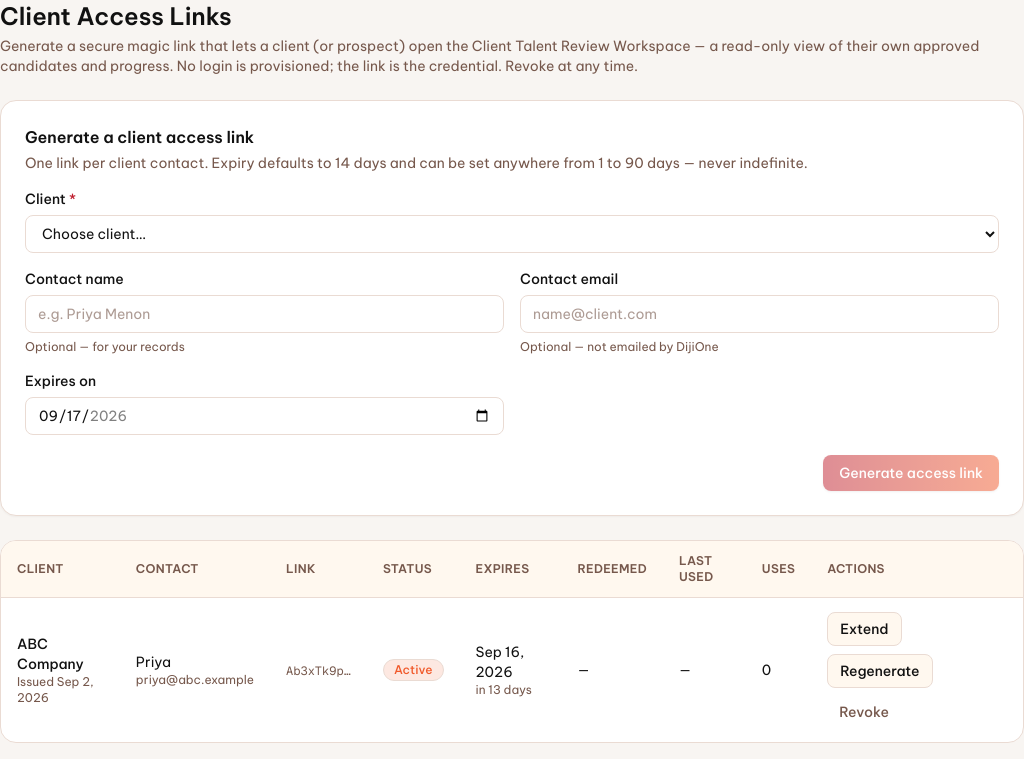
Test: AccessLinksView › shows the one-time access URL after generating, then it can be dismissed
Select "ABC Company" in the dropdown labelled "Client *" at (512, 234), box [25, 215, 999, 253]
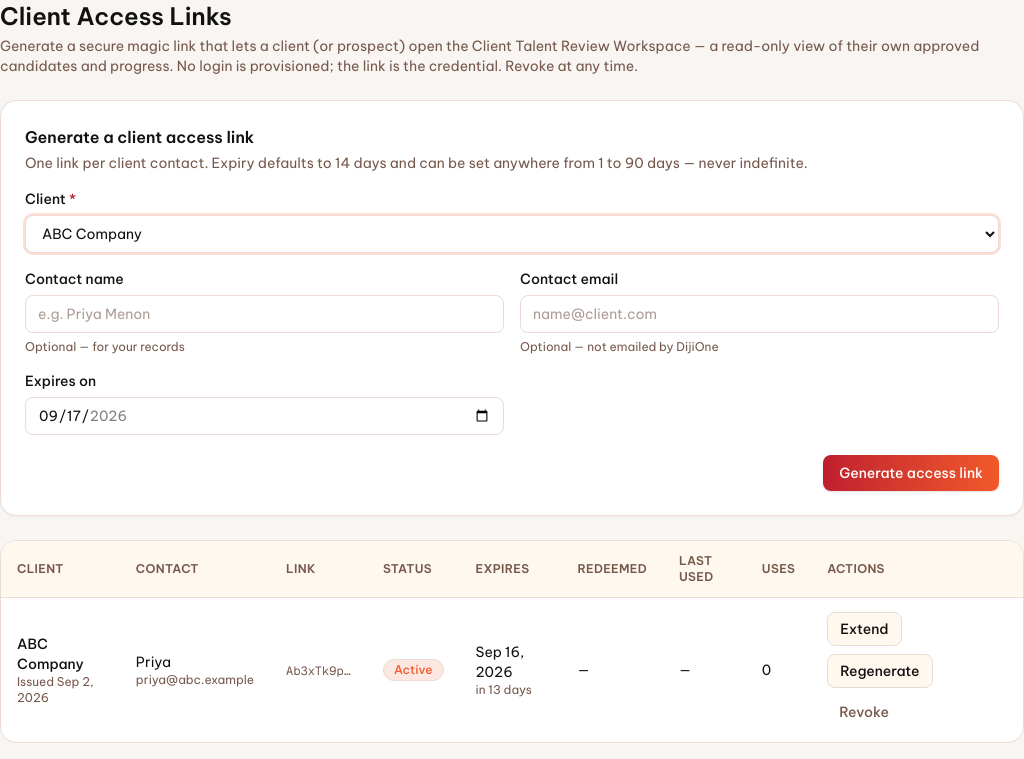
Click the button "Generate access link" at (911, 473), box [823, 455, 999, 491]
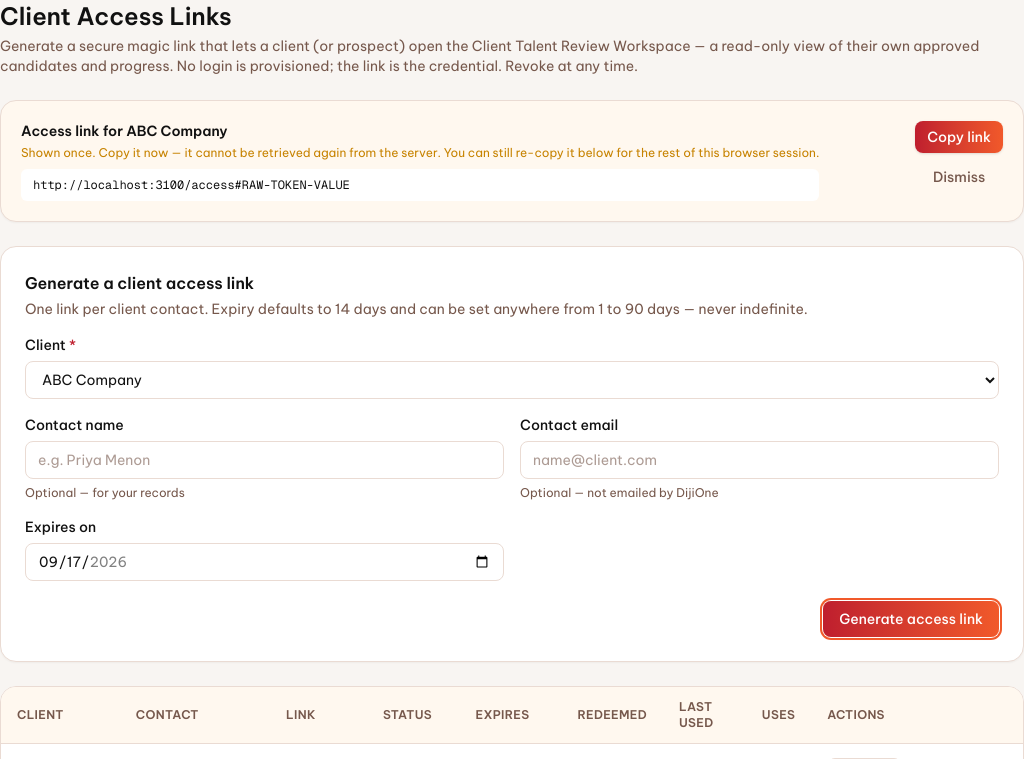
Expected: the text "http://localhost:3100/access#RAW-TOKEN-VALUE" is shown, [21, 169, 819, 201]
Expected: the text "Shown once" is shown, [21, 145, 819, 160]
Click the button "Dismiss" at (959, 177), box [915, 161, 1003, 193]
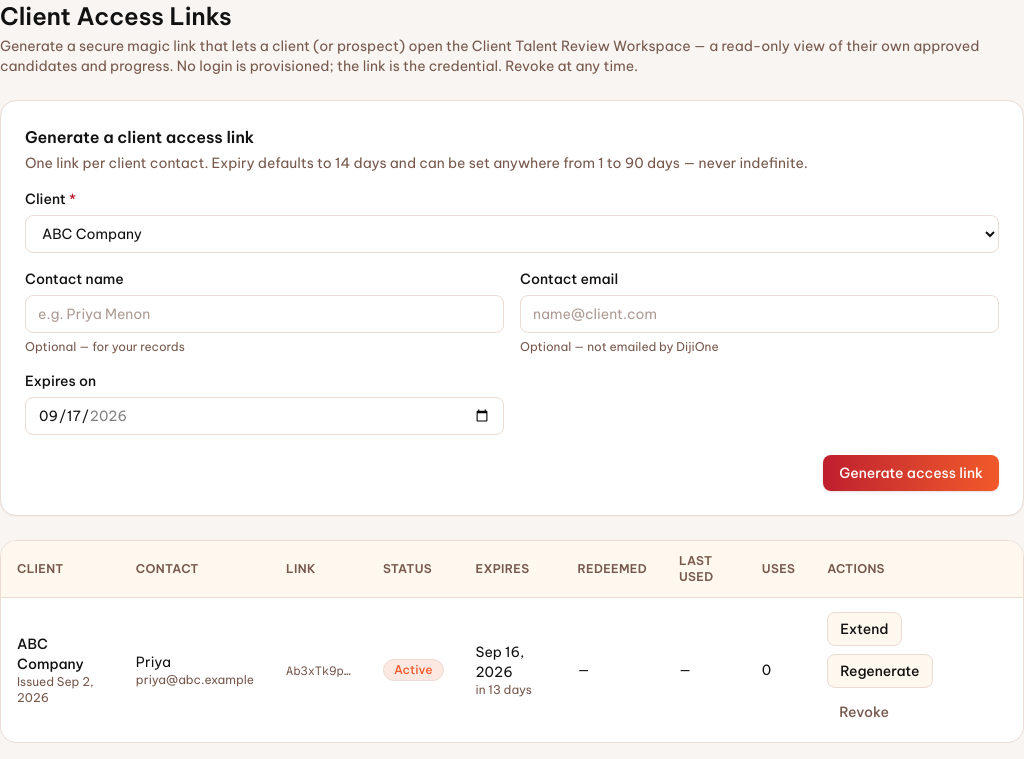
Expected: the text "http://localhost:3100/access#RAW-TOKEN-VALUE" is gone
